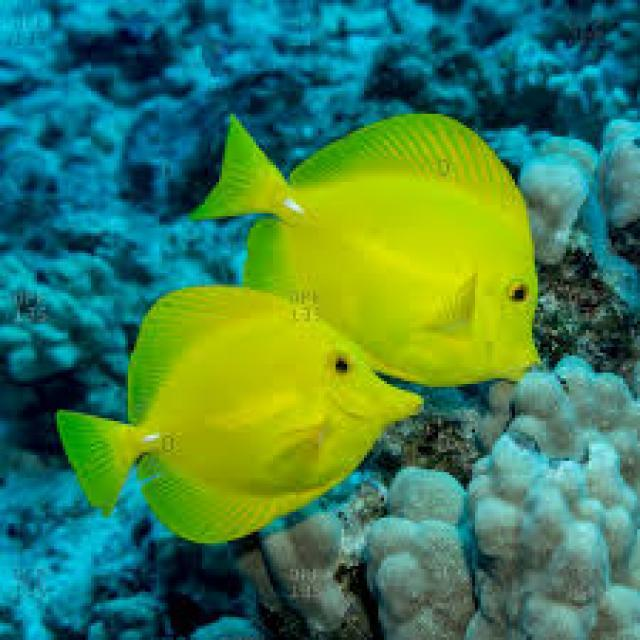YellowTang: (44, 278, 433, 557), (195, 99, 551, 392)
